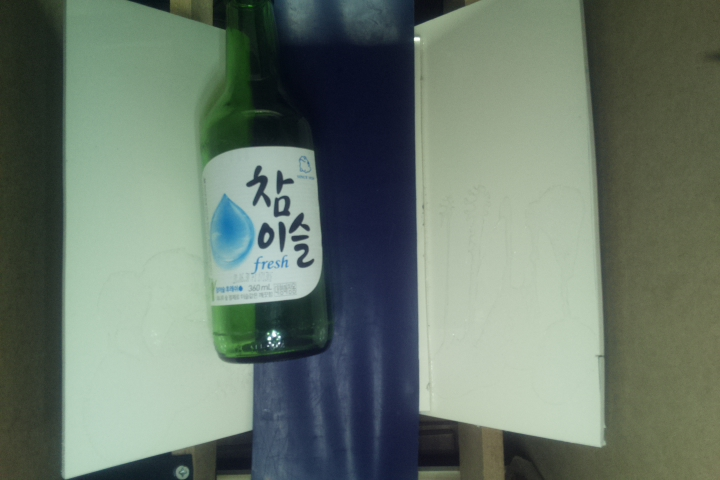soju: (195, 1, 330, 366)
